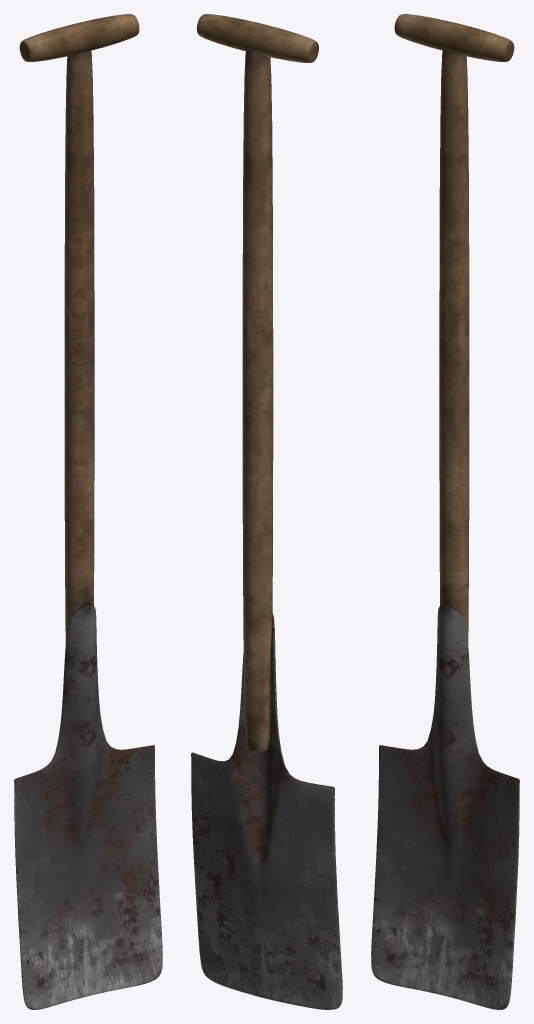
The model's file is spade.glb.
3 views of the same model, side by side, from view 1: azimuth 30°, elevation 25°; view 2: azimuth 150°, elevation 25°; view 3: azimuth 330°, elevation 25° (orthographic). The views are drawn at different scales.
Parts seen in each view (by area): view 1: rusted_spade_01; view 2: rusted_spade_01; view 3: rusted_spade_01.
Part boxes in pixels (left/top/right/bottom): rusted_spade_01: left=14, top=14, right=162, bottom=1009; rusted_spade_01: left=191, top=14, right=342, bottom=1009; rusted_spade_01: left=371, top=14, right=519, bottom=1009.
Bounding box in the file's own units: 0.1681 × 1.1 × 0.0456.
1 material, 1 textured.
